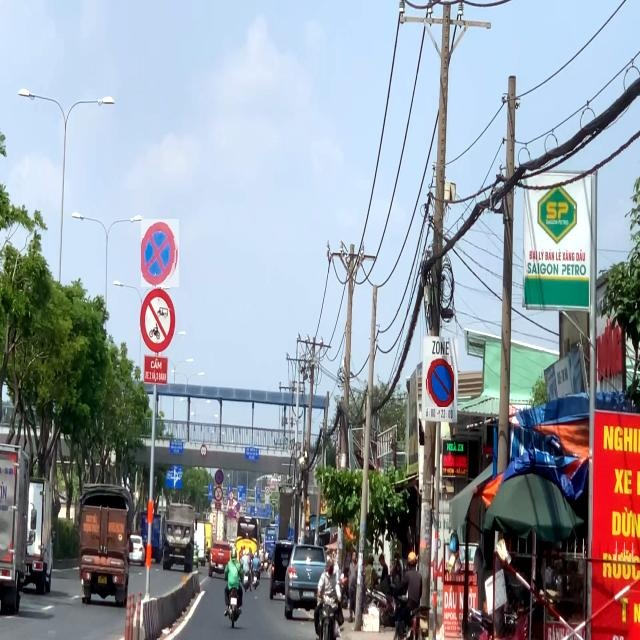bien_cam: (141, 219, 179, 287), (425, 356, 454, 407)
